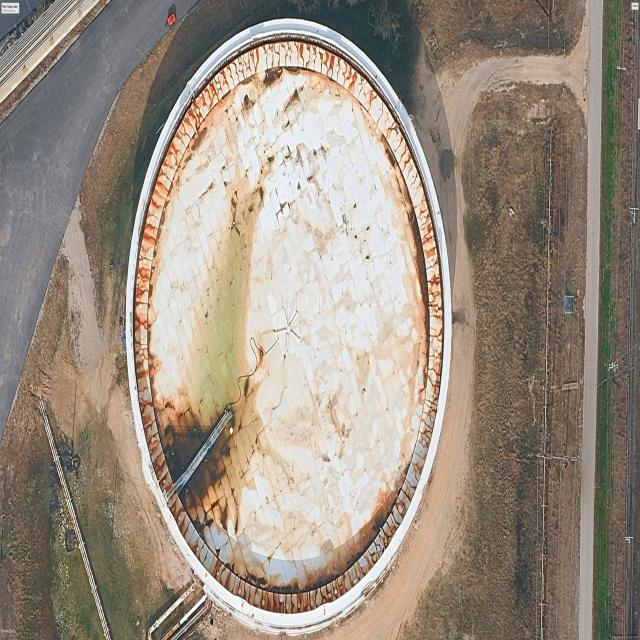Oil Rafinery: (126, 19, 452, 634)
